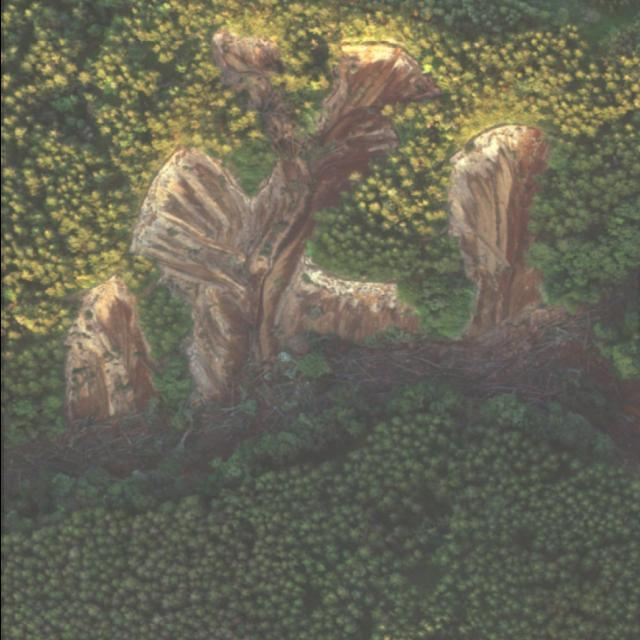landslide: (6, 30, 639, 485)
